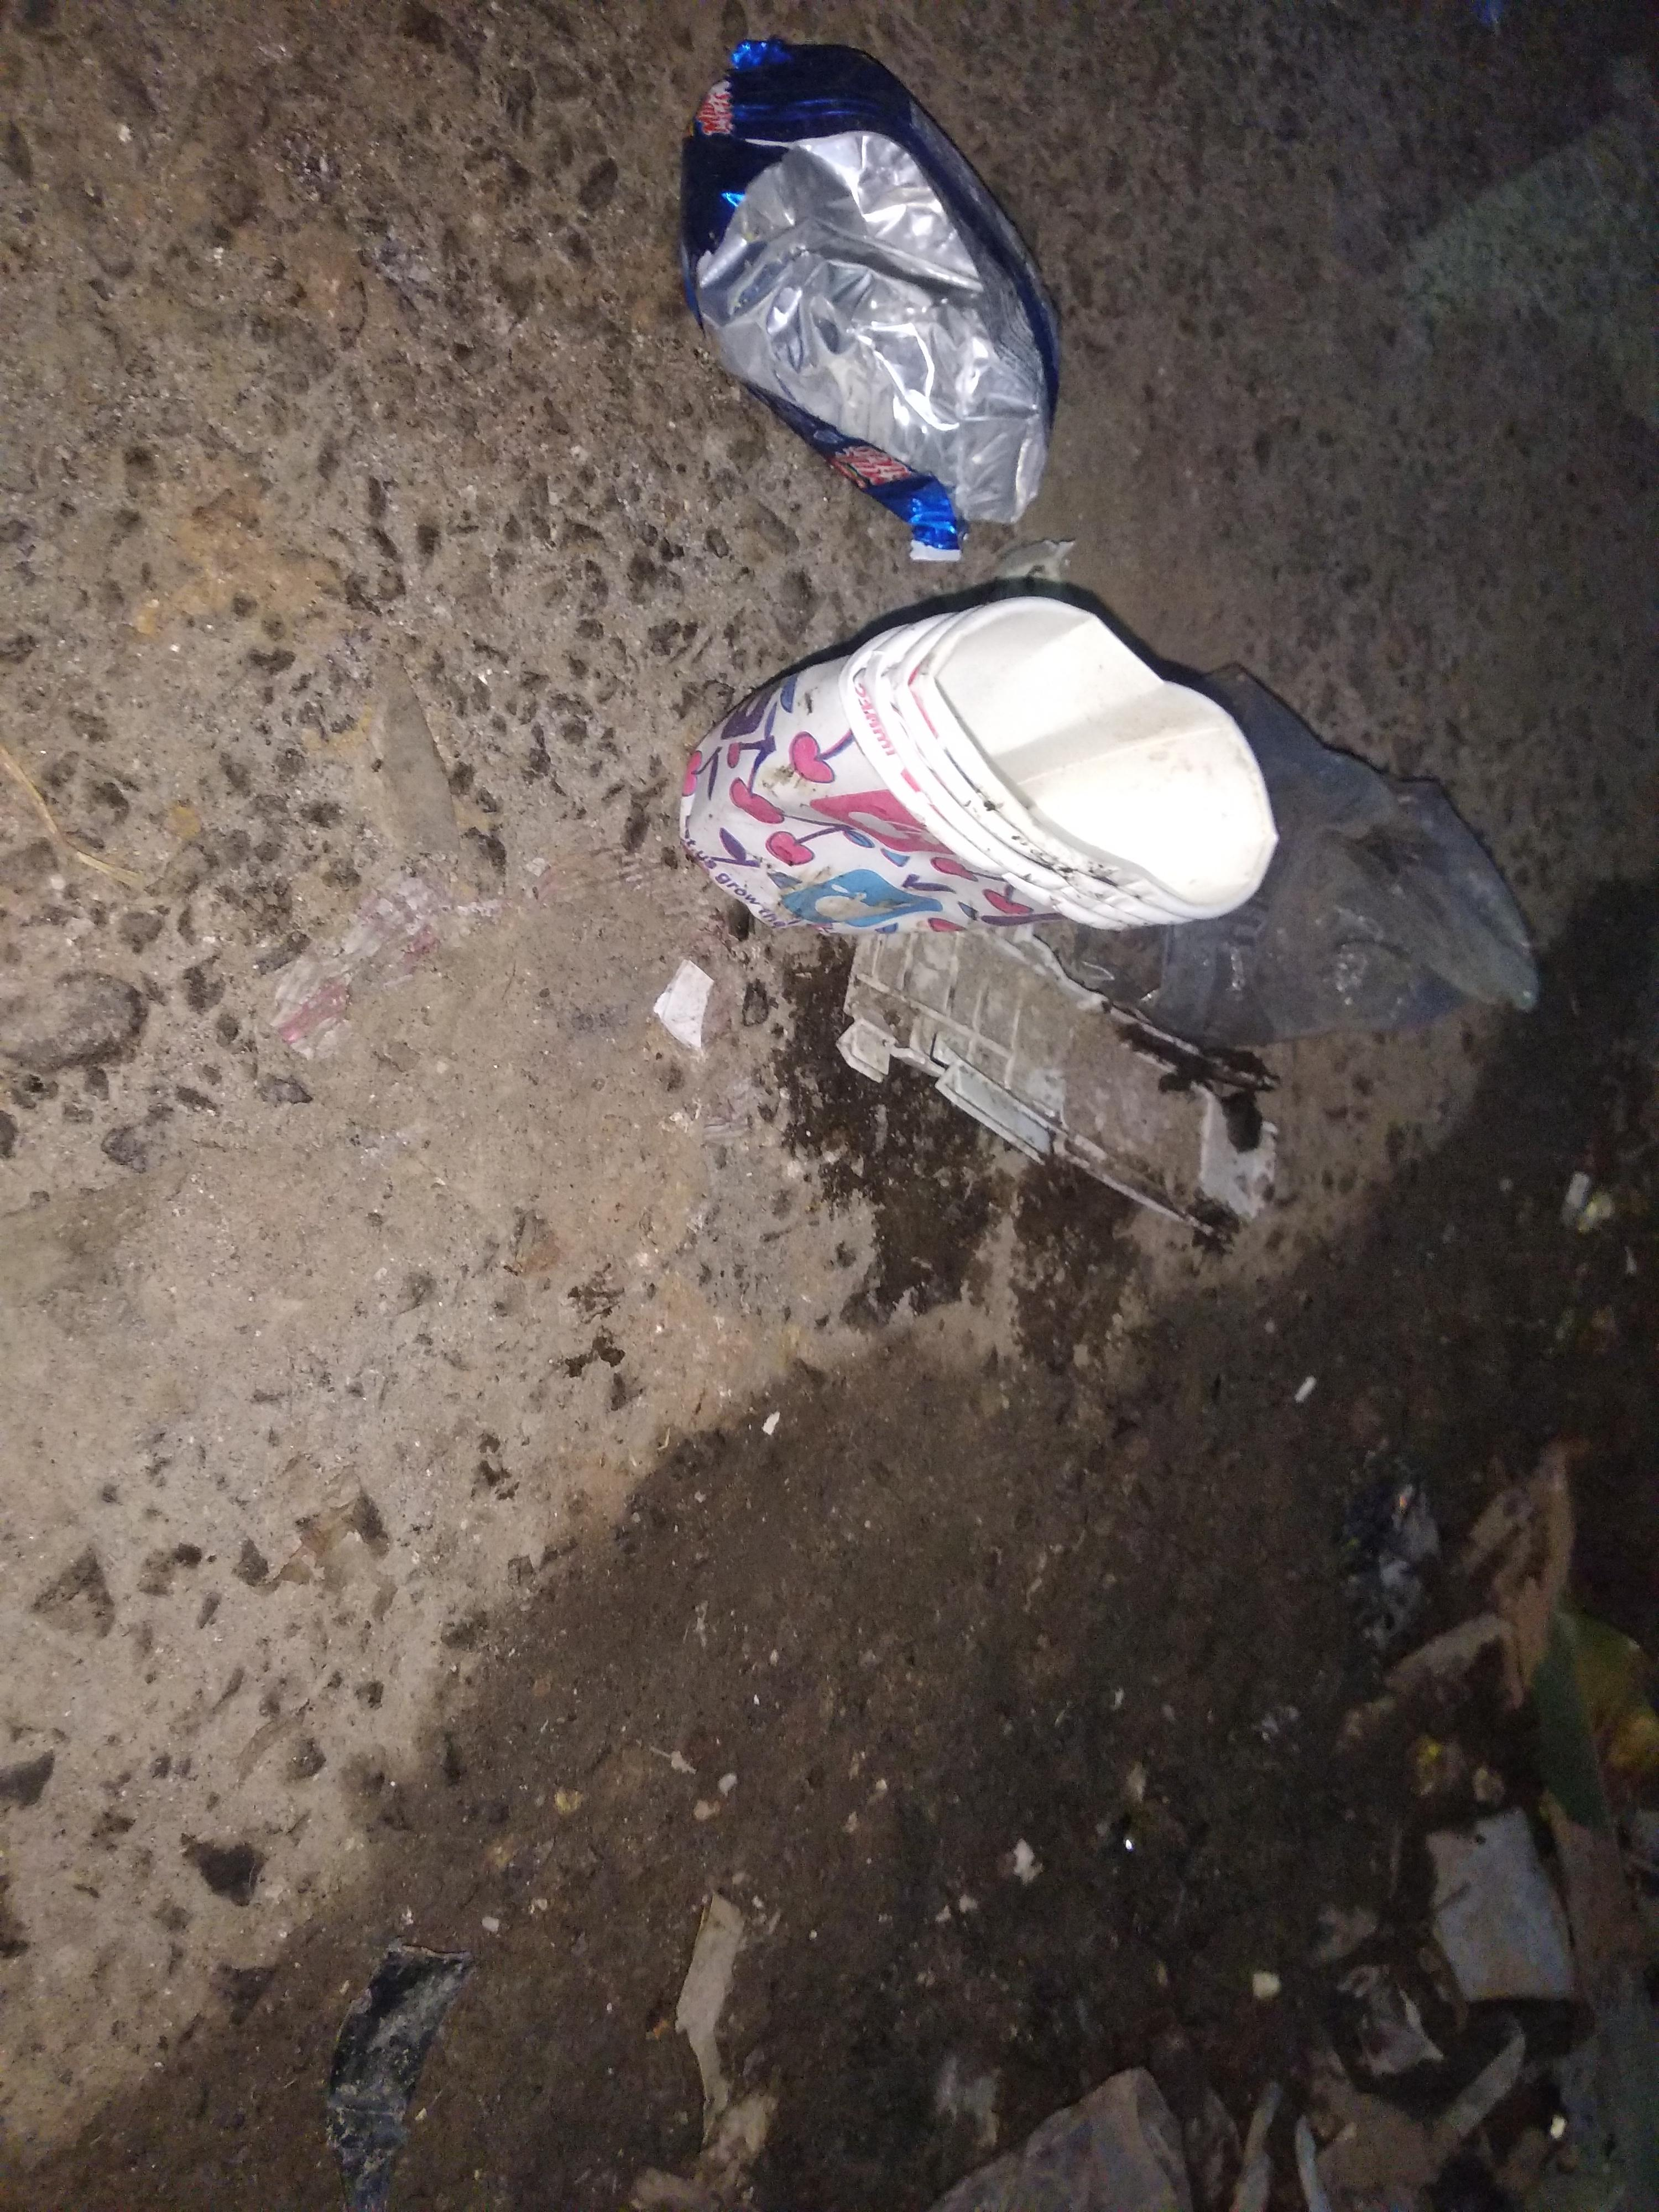organic: (613, 11, 1559, 1266)
